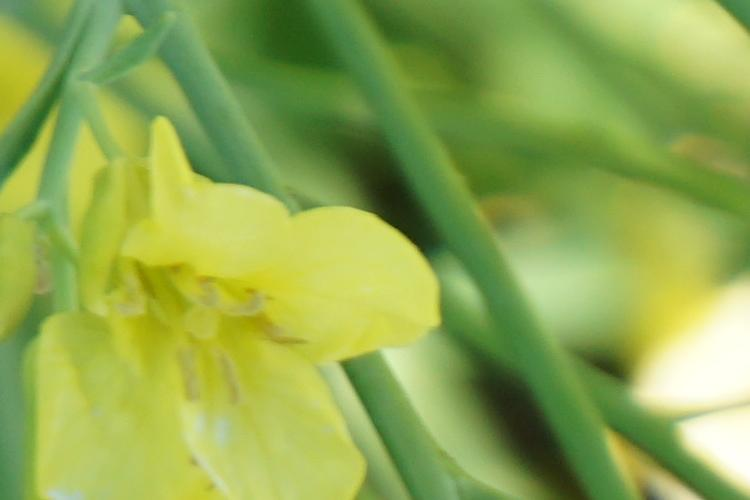yellow: (55, 119, 439, 500)
